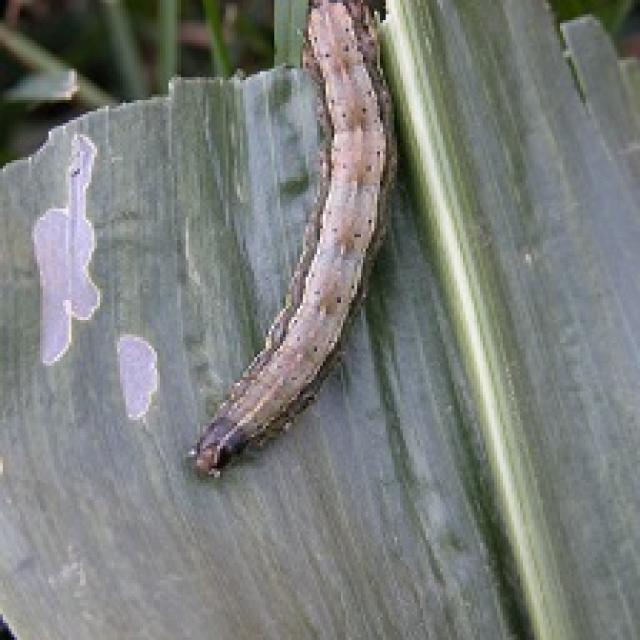worm: (187, 1, 398, 478)
